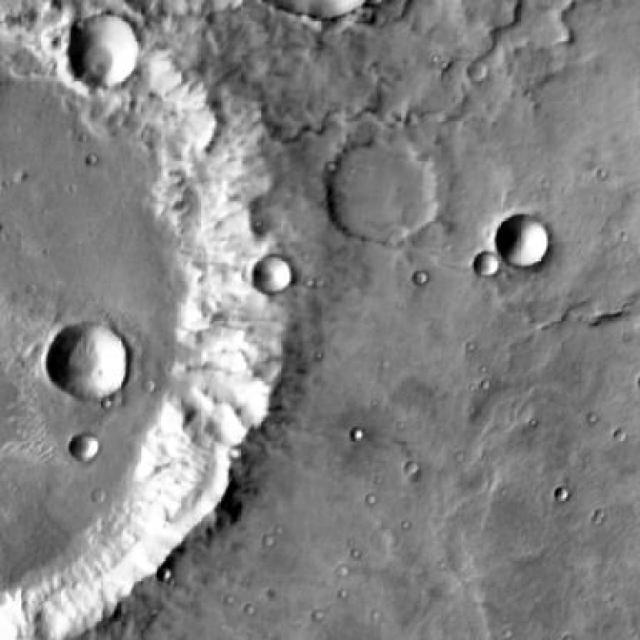crater: (4, 6, 287, 640), (326, 137, 439, 248), (50, 320, 130, 398), (64, 15, 138, 87), (498, 220, 550, 271), (256, 256, 296, 296), (70, 433, 99, 461), (472, 255, 496, 280), (473, 62, 493, 82)
